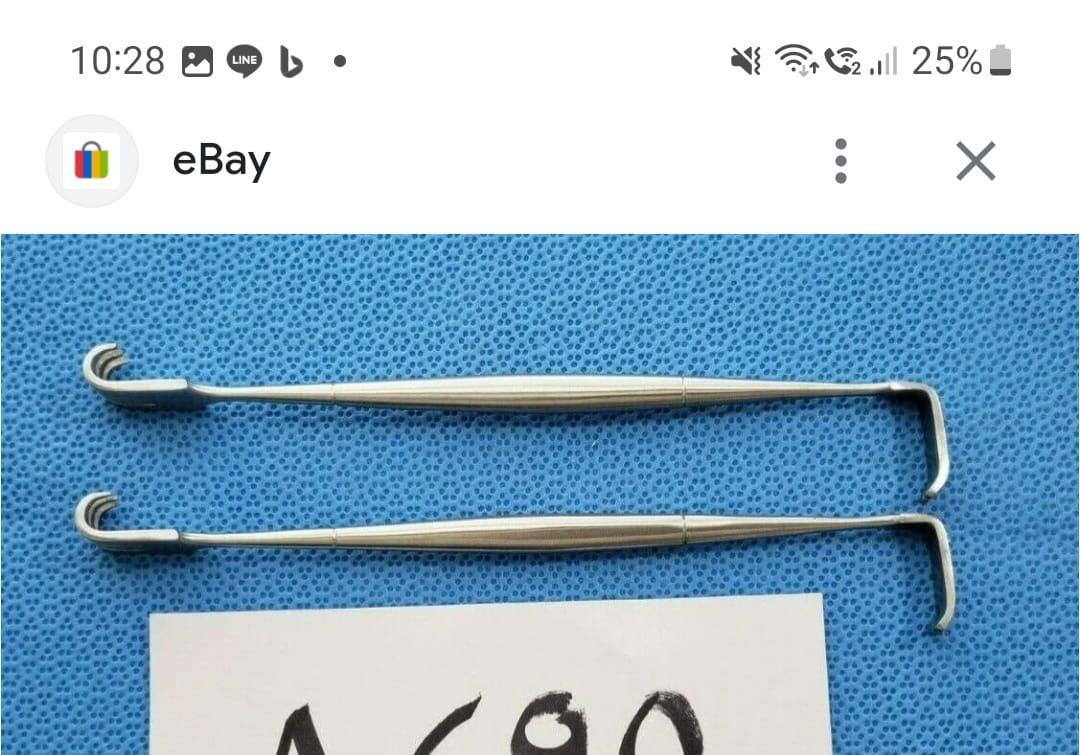Senn Retractor: (72, 328, 953, 503), (60, 482, 968, 641)
